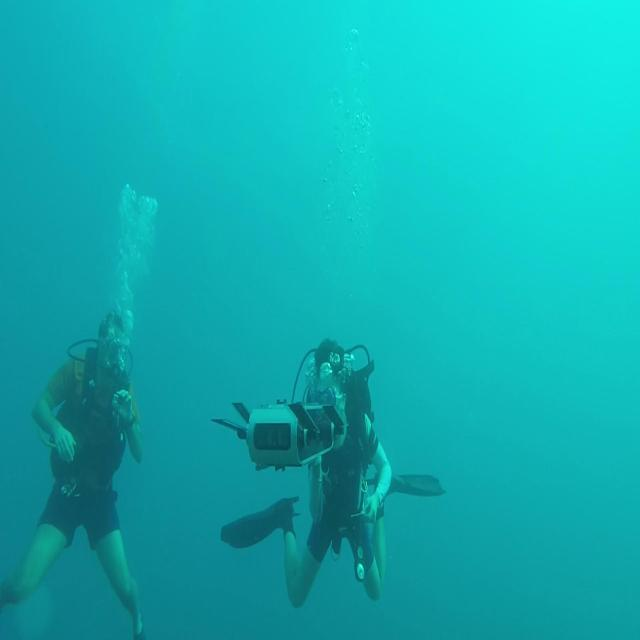human: (213, 336, 445, 609), (1, 308, 145, 638)
